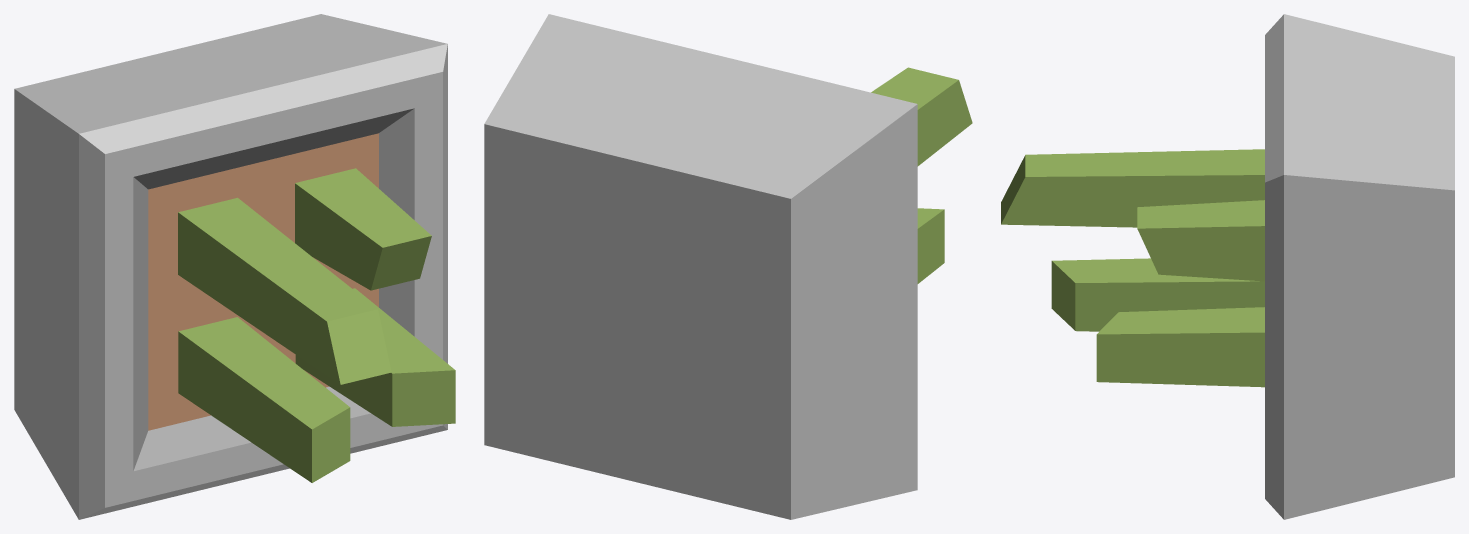
Rendered from Deco_3.obj.
3 views of the same model, side by side, from view 1: azimuth 30°, elevation 25°; view 2: azimuth 150°, elevation 25°; view 3: azimuth 270°, elevation 25° (orthographic). The views are drawn at different scales.
Parts seen in each view (by area): view 1: Deco_3; view 2: Deco_3; view 3: Deco_3.
Boxes of the visible parts, x1,y1,x2,y2 form: Deco_3: [14, 14, 455, 519]; Deco_3: [484, 14, 972, 519]; Deco_3: [1001, 14, 1454, 519].
Size of the model in its own units: 0.0798 by 0.0798 by 0.0951.
